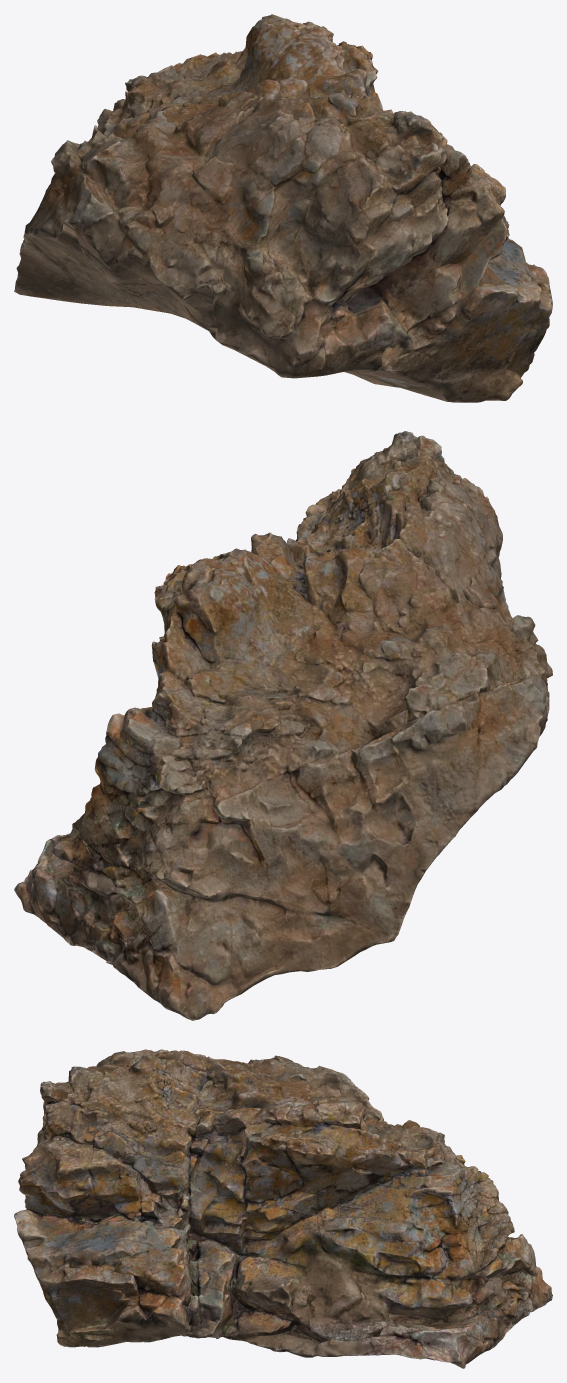
File: boulder_01.glb
The picture shows the model from 3 angles, top to bottom: view 1: azimuth 30°, elevation 25°; view 2: azimuth 150°, elevation 25°; view 3: azimuth 270°, elevation 25°; orthographic projection. The views are drawn at different scales.
Parts seen in each view (by area): view 1: boulder_01; view 2: boulder_01; view 3: boulder_01.
Boxes of the visible parts, x1=… form: boulder_01: x1=14, y1=14, x2=552, y2=402; boulder_01: x1=14, y1=431, x2=552, y2=1020; boulder_01: x1=14, y1=1049, x2=552, y2=1368.
Bounding box in the file's own units: 1.27 × 1 × 1.83.
Materials: 1 (1 with a texture image).
